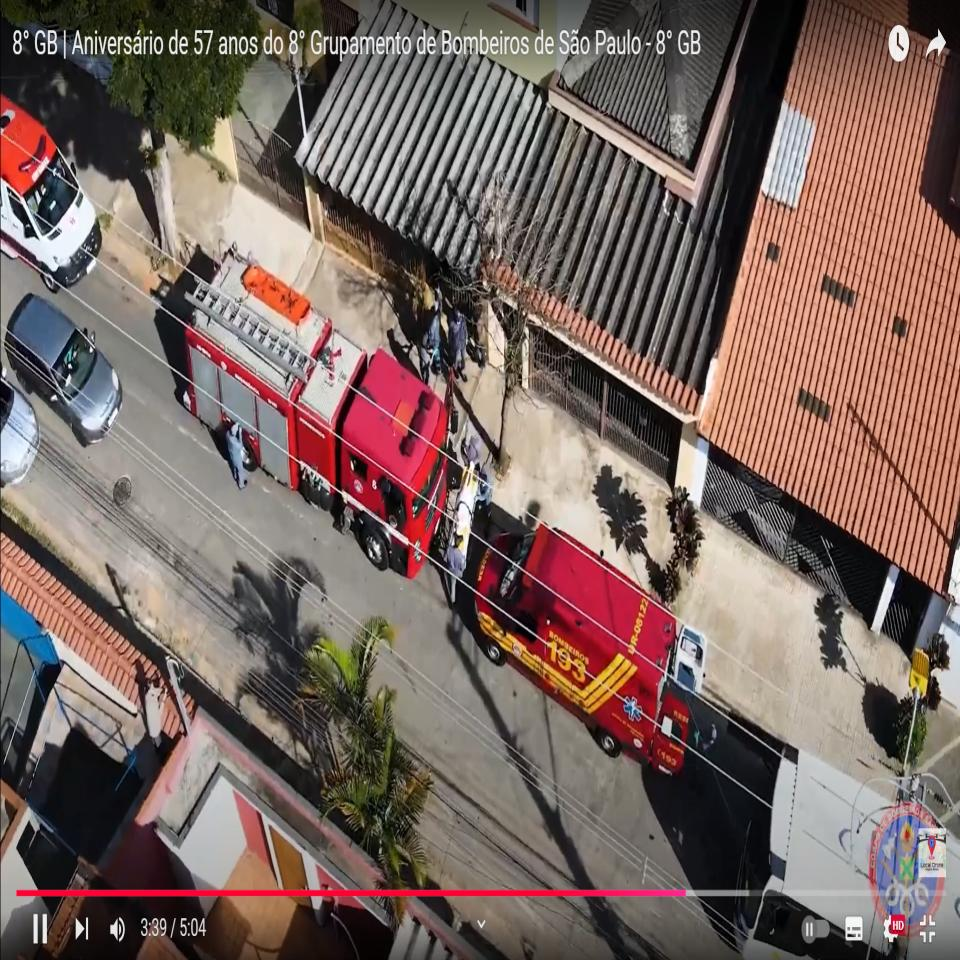viatura: (185, 239, 450, 582)
